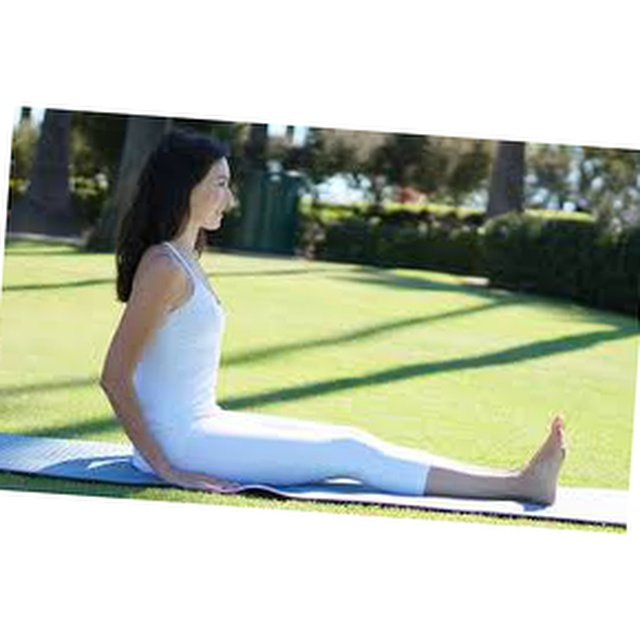Staff_Pose: (97, 126, 566, 507)
